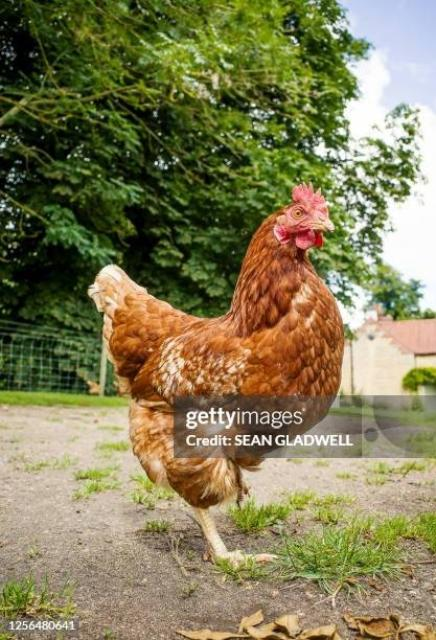Chicken: (89, 179, 346, 566)
